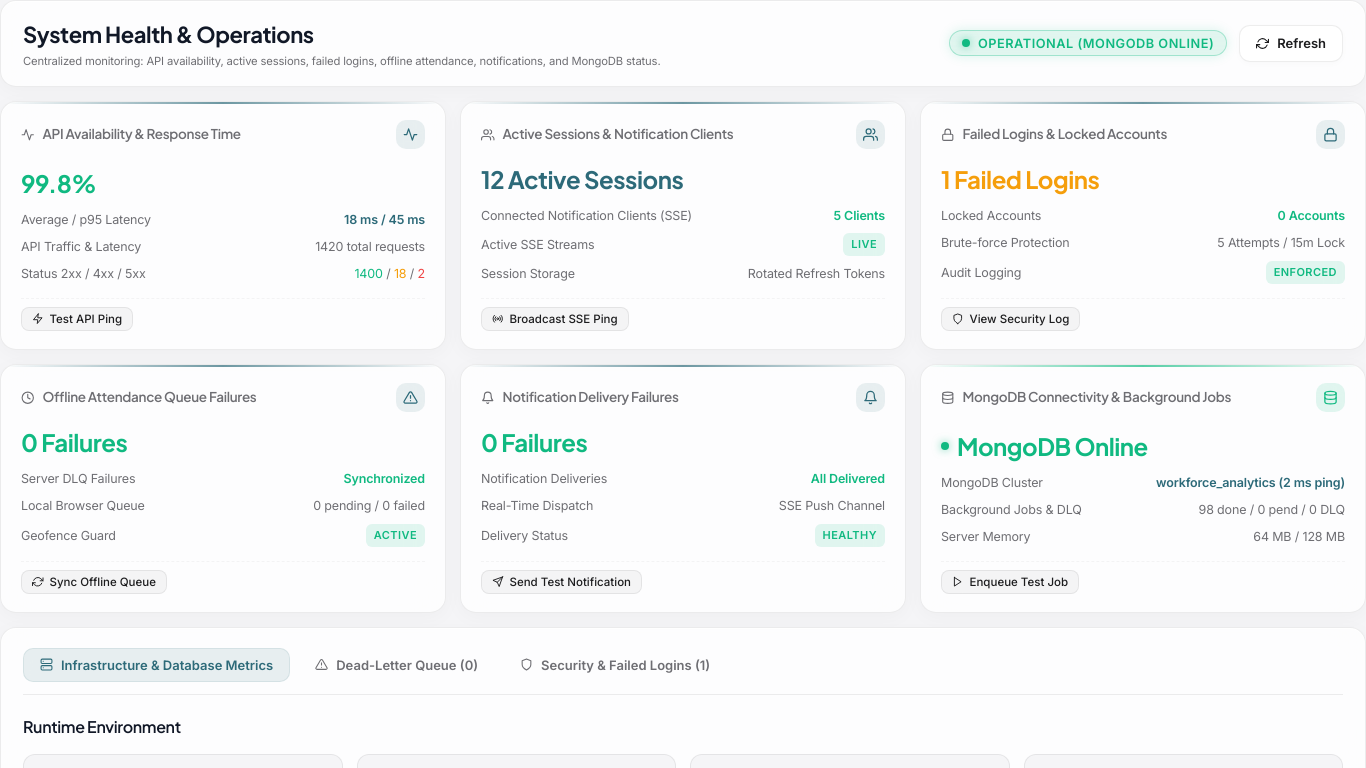
Test: Admin SystemHealth Monitoring Dashboard (Task 16 - Pavan Kumar) › supports switching tabs for deep operational insights
Expected: the heading "System Health & Operations" is shown, [23,20,314,48]
Note: Click Dead-Letter Queue Tab
Click the tab "Dead-Letter Queue (0)": (397, 665) [298,648,495,682]
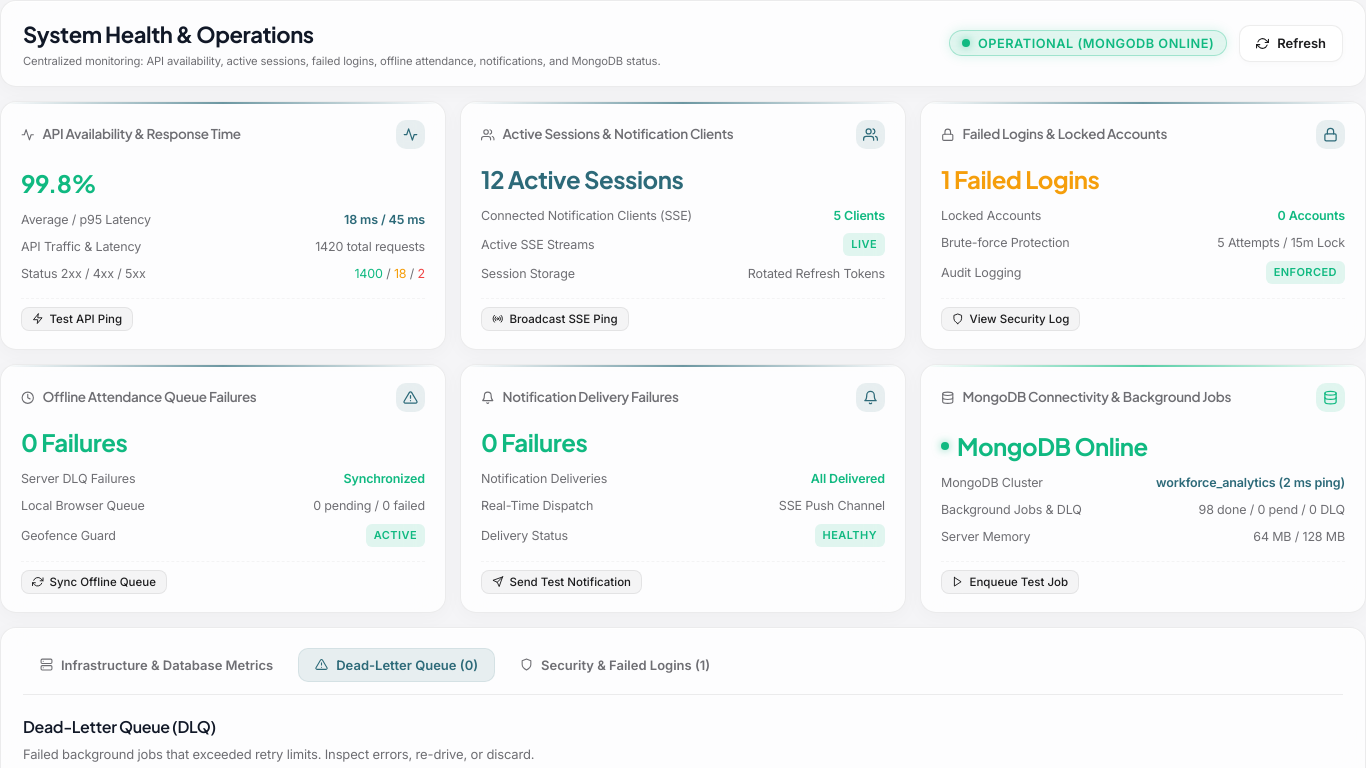
Expected: the heading "Dead-Letter Queue (DLQ)" is shown, [23,716,216,737]
Note: Click Security Tab
Click the tab "Security & Failed Logins (1)": (615, 665) [503,648,727,682]
(page scrolled)
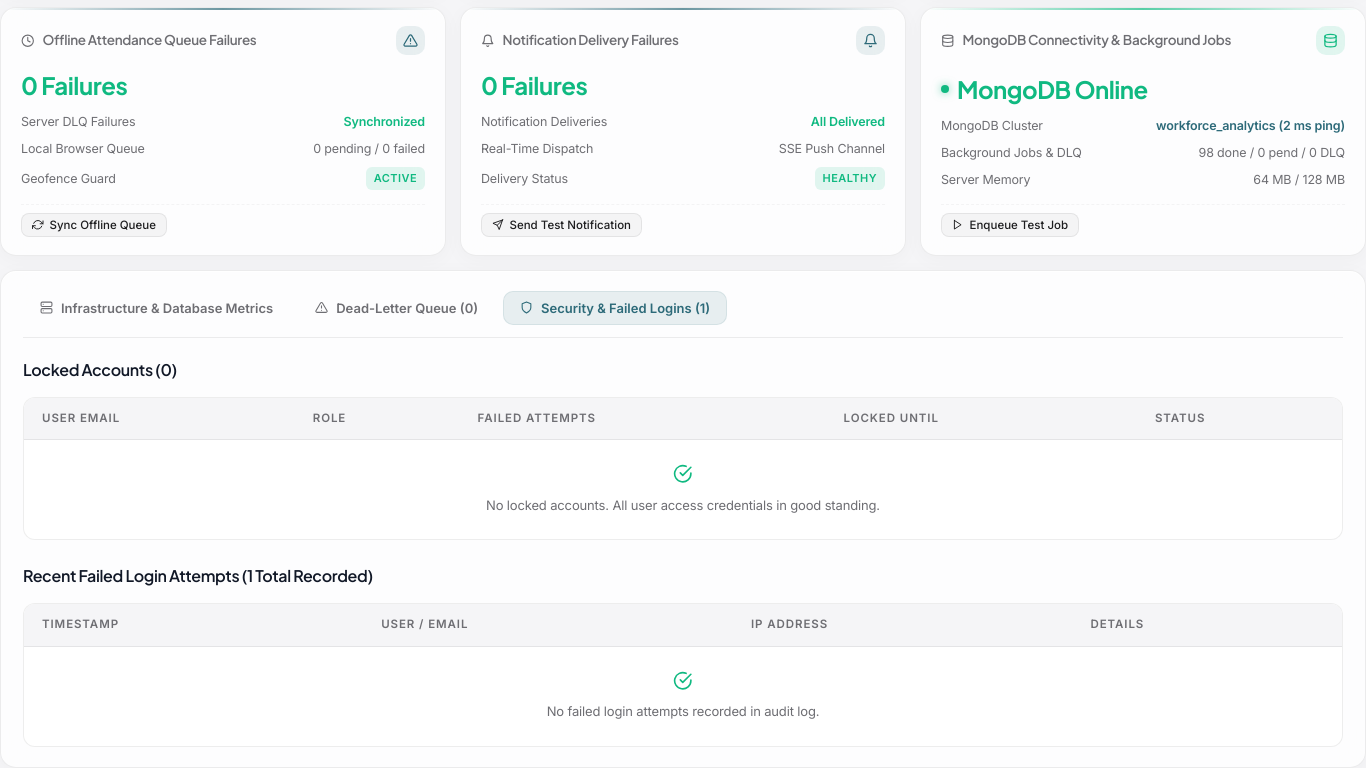
Expected: the heading "Recent Failed Login Attempts (1 Total Recorded)" is shown, [23,565,373,586]
